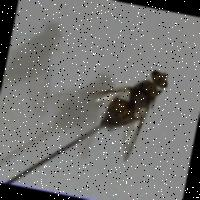Oriental-fruit-fly: (70, 37, 178, 170)
